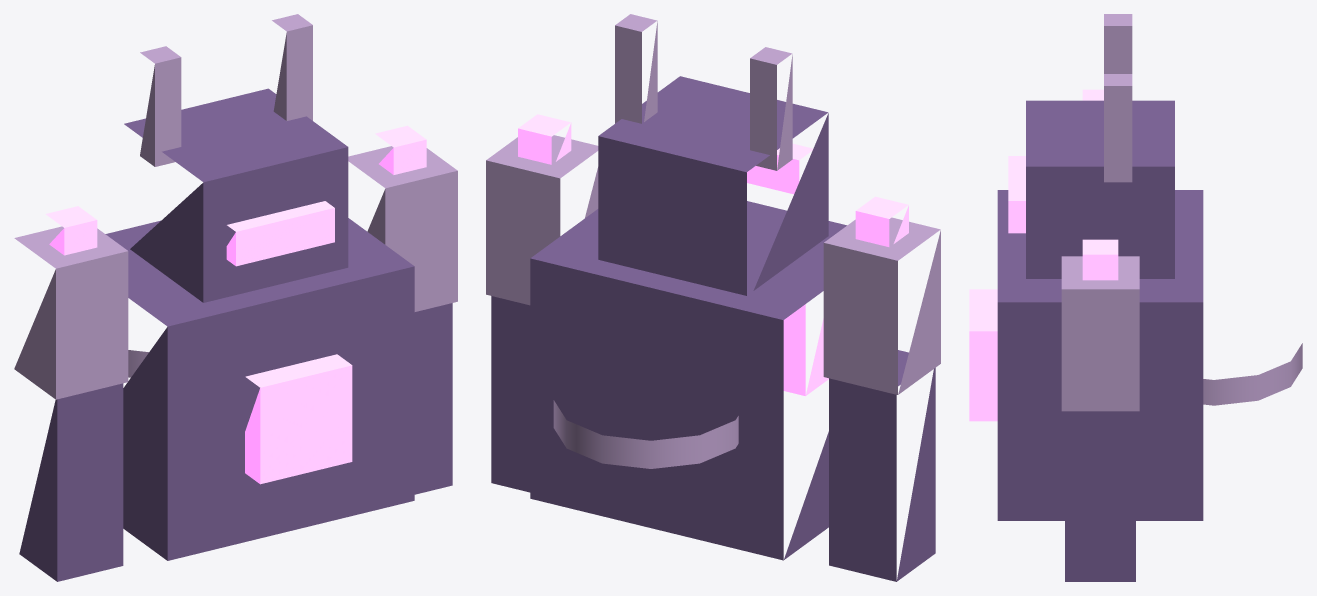
The model's file is golem_aether_05.glb.
3 views of the same model, side by side, from view 1: azimuth 30°, elevation 25°; view 2: azimuth 150°, elevation 25°; view 3: azimuth 270°, elevation 25° (orthographic). The views are drawn at different scales.
Visible parts, largest first — view 1: AetherObsidian, AetherRunic, AetherGlow; view 2: AetherObsidian, AetherRunic, AetherGlow; view 3: AetherObsidian, AetherRunic, AetherGlow.
Boxes of the visible parts, x1,y1,x2,y2 form: AetherObsidian: [19, 88, 452, 581]; AetherRunic: [14, 14, 457, 399]; AetherGlow: [45, 125, 426, 484]; AetherObsidian: [491, 76, 935, 581]; AetherRunic: [486, 14, 940, 468]; AetherGlow: [518, 114, 908, 395]; AetherObsidian: [997, 100, 1203, 581]; AetherRunic: [1061, 14, 1302, 411]; AetherGlow: [969, 89, 1118, 421].
Size of the model in its own units: 1.22 by 1.38 by 0.94.
